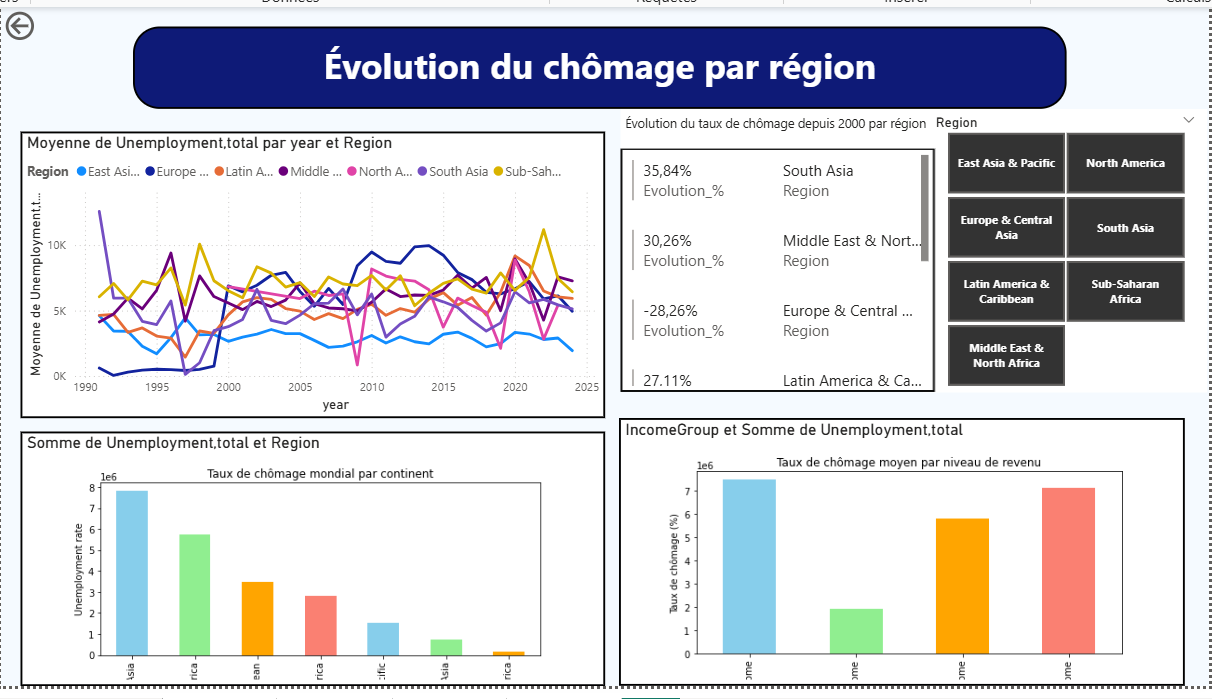

The page's visual inventory and layout, read from the dashboard file:
{"tool":"powerbi","page":{"name":"Page 2","canvas":[1280,720],"ordinal":1},"visuals":[{"type":"textbox","box":[140,20,990,87.5],"z":0},{"type":"slicer","fields":{"Values":["dataset_nettoye.Region"]},"box":[978.9,107.7,300.5,300.5],"z":1000},{"type":"lineChart","fields":{"Y":["Avg(dataset_nettoye.Unemployment,total)"],"Category":["dataset_nettoye.year"],"Series":["dataset_nettoye.Region"]},"box":[20,132,620,304],"z":2000},{"type":"pythonVisual","fields":{"Values":["Sum(dataset_nettoye.Unemployment,total)","dataset_nettoye.Region"]},"box":[20,450,620,270],"z":3000},{"type":"pythonVisual","fields":{"Values":["dataset_nettoye.IncomeGroup","Sum(dataset_nettoye.Unemployment,total)"]},"box":[656,436,600,284],"z":4000},{"type":"multiRowCard","fields":{"Values":["dataset_nettoye.Evolution_%","dataset_nettoye.Region"]},"box":[656.7,150,333.3,258.3],"z":5000},{"type":"actionButton","box":[0,0,100,40],"z":6000},{"type":"textbox","box":[656.7,108.3,333.3,41.7],"z":7000}]}

Visuals, with their boxes in screenshot pixels (x1, y1, x2, y2):
textbox: region(134, 25, 1058, 107)
slicer - dataset_nettoye.Region: region(917, 107, 1198, 387)
lineChart - Avg(dataset_nettoye.Unemployment,total) x dataset_nettoye.year: region(22, 130, 601, 413)
pythonVisual - Sum(dataset_nettoye.Unemployment,total) x dataset_nettoye.Region: region(22, 427, 601, 679)
pythonVisual - dataset_nettoye.IncomeGroup x Sum(dataset_nettoye.Unemployment,total): region(616, 413, 1176, 679)
multiRowCard - dataset_nettoye.Evolution_% x dataset_nettoye.Region: region(616, 146, 928, 388)
actionButton: region(3, 6, 97, 44)
textbox: region(616, 107, 928, 146)
